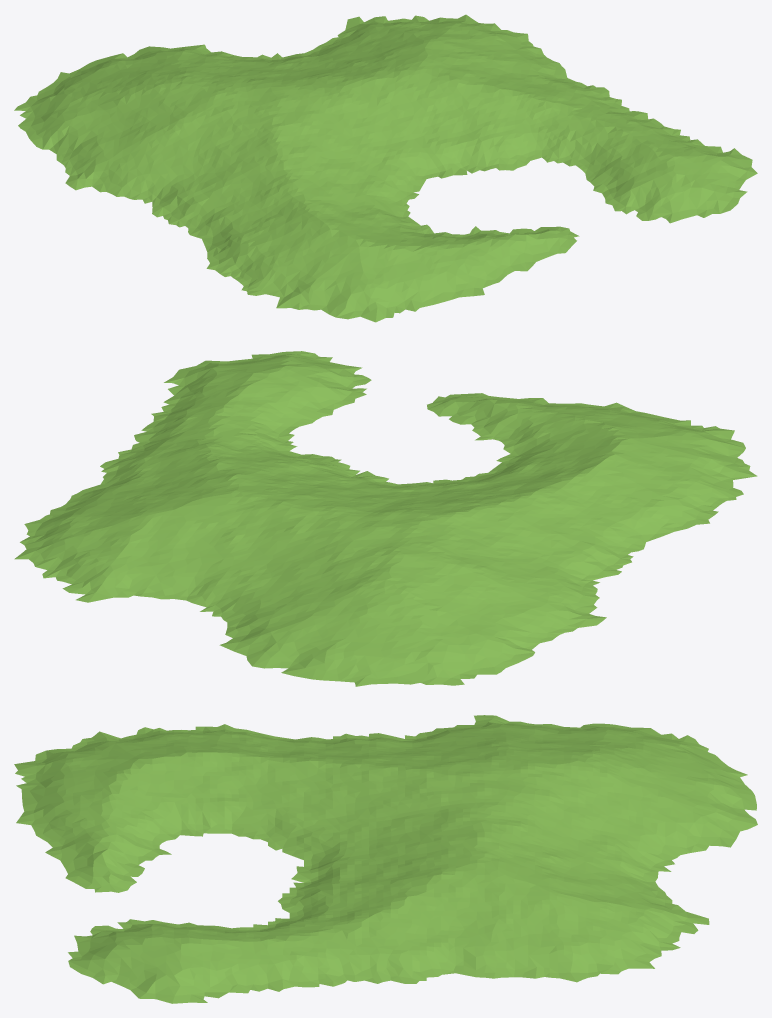
The model's file is MT_Island_H_b_05.fbx.
3 views of the same model, one above another, from view 1: azimuth 30°, elevation 25°; view 2: azimuth 150°, elevation 25°; view 3: azimuth 270°, elevation 25° (orthographic). The views are drawn at different scales.
Visible parts, largest first — view 1: MT_Island_H_b_05; view 2: MT_Island_H_b_05; view 3: MT_Island_H_b_05.
Part boxes in pixels (x1,y1,x2,y2): MT_Island_H_b_05: (14,14,757,322); MT_Island_H_b_05: (14,351,757,686); MT_Island_H_b_05: (14,715,757,1003).
Size of the model in its own units: 37218 by 2494 by 40566.
